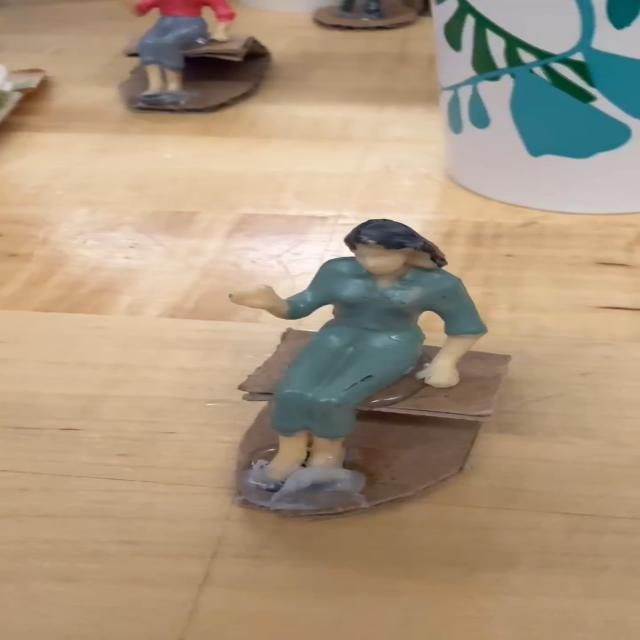Authorized: (196, 192, 511, 530)
